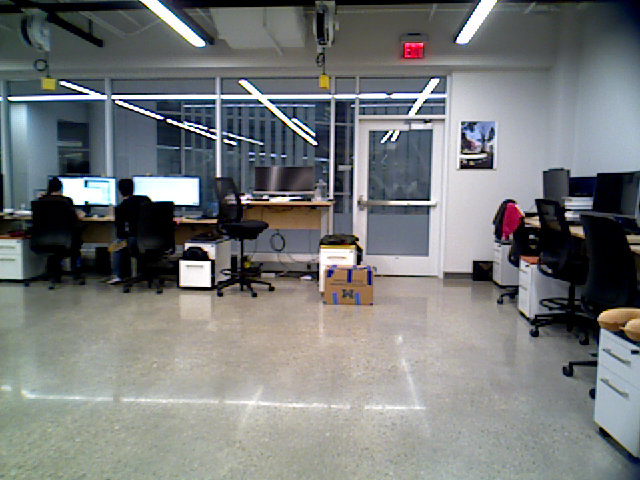painting3: (457, 120, 498, 171)
